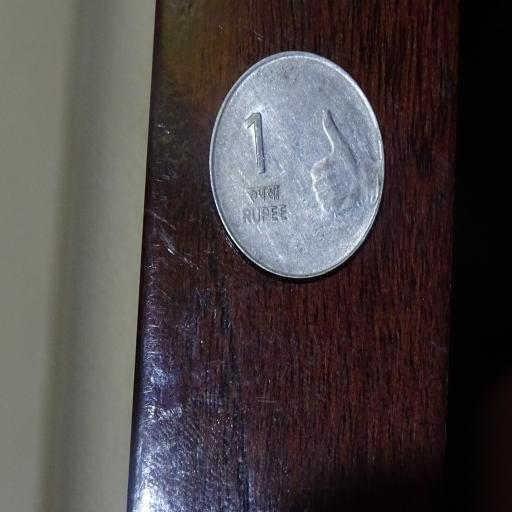rupee1: (206, 52, 384, 282)
